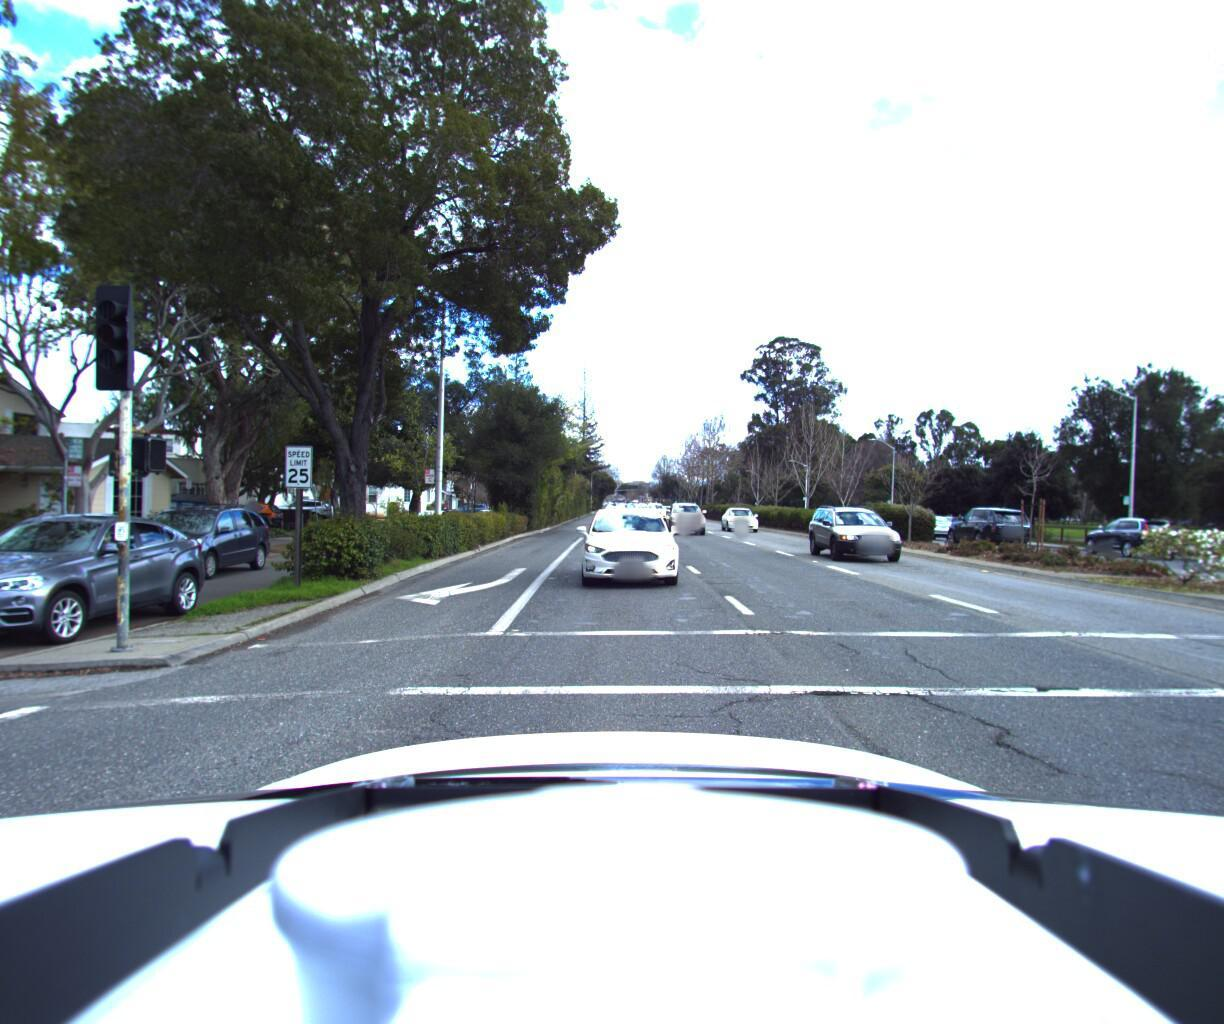car: (91, 501, 280, 587), (565, 503, 689, 605), (809, 504, 929, 573), (1060, 514, 1168, 559), (926, 502, 1019, 549), (208, 501, 289, 534), (662, 499, 710, 539), (263, 499, 336, 524), (721, 503, 769, 536), (600, 501, 631, 527), (644, 504, 669, 525)
